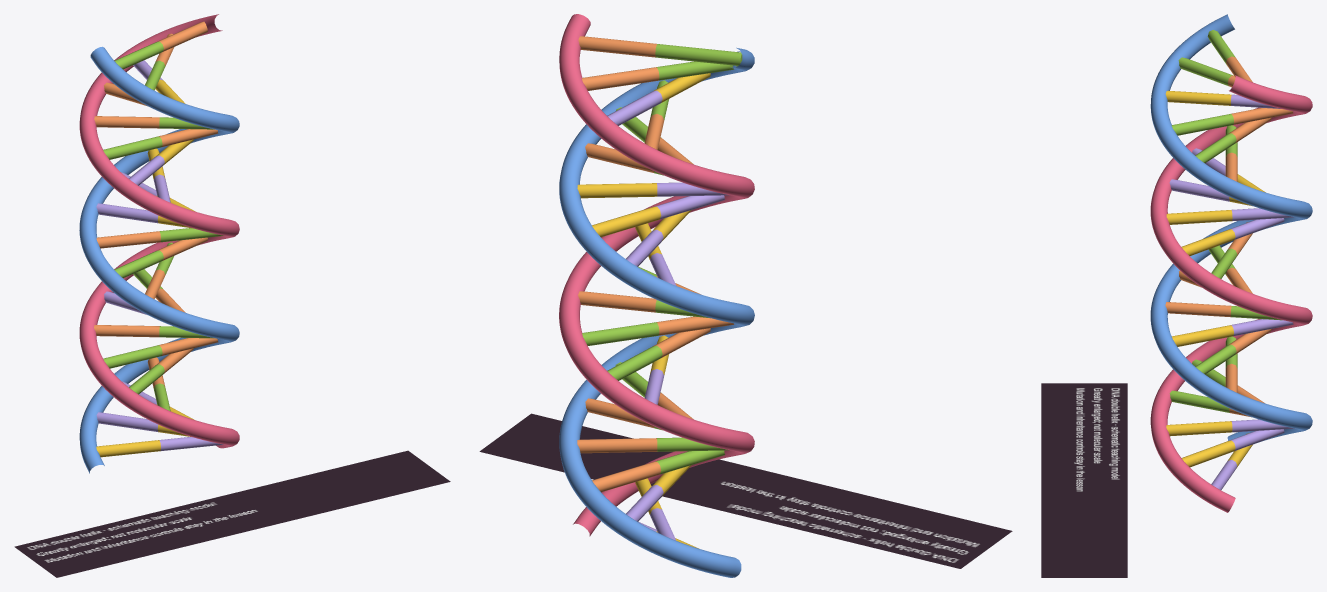
File: genes.glb
3 renders of one model, left to right at view 1: azimuth 30°, elevation 25°; view 2: azimuth 150°, elevation 25°; view 3: azimuth 270°, elevation 25°, orthographic. The views are drawn at different scales.
Visible parts, largest first — view 1: genes_authored_teaching_model, Scale_and_credit; view 2: genes_authored_teaching_model, Scale_and_credit; view 3: genes_authored_teaching_model, Scale_and_credit.
Part boxes in pixels (left/top/right/bottom): genes_authored_teaching_model: left=79, top=14, right=239, bottom=473; Scale_and_credit: left=14, top=450, right=450, bottom=577; genes_authored_teaching_model: left=559, top=14, right=754, bottom=577; Scale_and_credit: left=479, top=413, right=1012, bottom=568; genes_authored_teaching_model: left=1150, top=14, right=1312, bottom=512; Scale_and_credit: left=1041, top=383, right=1127, bottom=577.
Bounding box in the file's own units: 0.4 × 0.4183 × 0.236.
47 materials, 1 textured.
